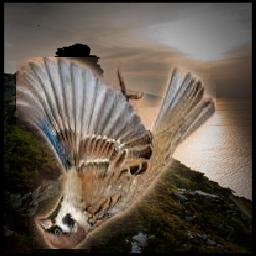Sparrow: (16, 57, 216, 249)
